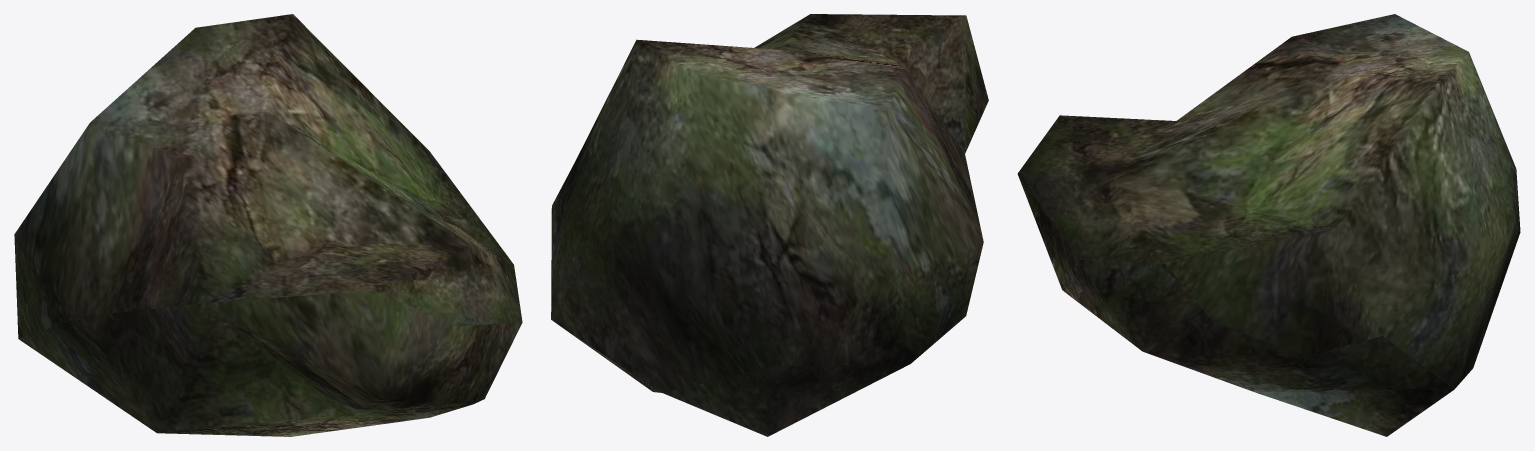
The picture shows the model from 3 angles, left to right: view 1: azimuth 30°, elevation 25°; view 2: azimuth 150°, elevation 25°; view 3: azimuth 270°, elevation 25°; orthographic projection. The views are drawn at different scales.
Visible parts, largest first — view 1: model_Object22; view 2: model_Object22; view 3: model_Object22.
Boxes of the visible parts, <box> form: model_Object22: <box>14,14,522,436</box>; model_Object22: <box>551,14,988,436</box>; model_Object22: <box>1017,14,1520,436</box>.
Size of the model in its own units: 2.61 by 2.38 by 3.12.
1 material, 1 textured.
